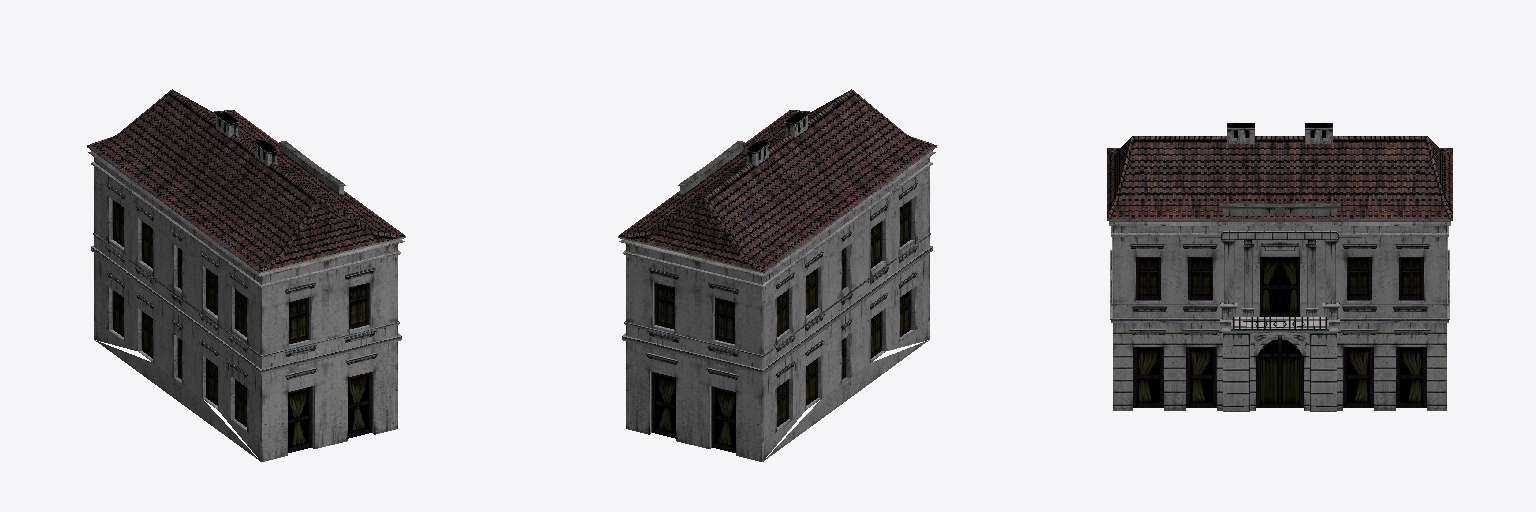
The picture shows the model from 3 angles: view 1: azimuth 30°, elevation 25°; view 2: azimuth 150°, elevation 25°; view 3: azimuth 270°, elevation 25°; orthographic projection.
Visible parts, largest first — view 1: City_building_010; view 2: City_building_010; view 3: City_building_010.
Part boxes in pixels (bbox=[...]): City_building_010: bbox=[87, 89, 405, 461]; City_building_010: bbox=[618, 89, 936, 461]; City_building_010: bbox=[1107, 123, 1452, 411].
Size of the model in its own units: 7.02 by 10.22 by 12.71.
Materials: 1 (1 with a texture image).